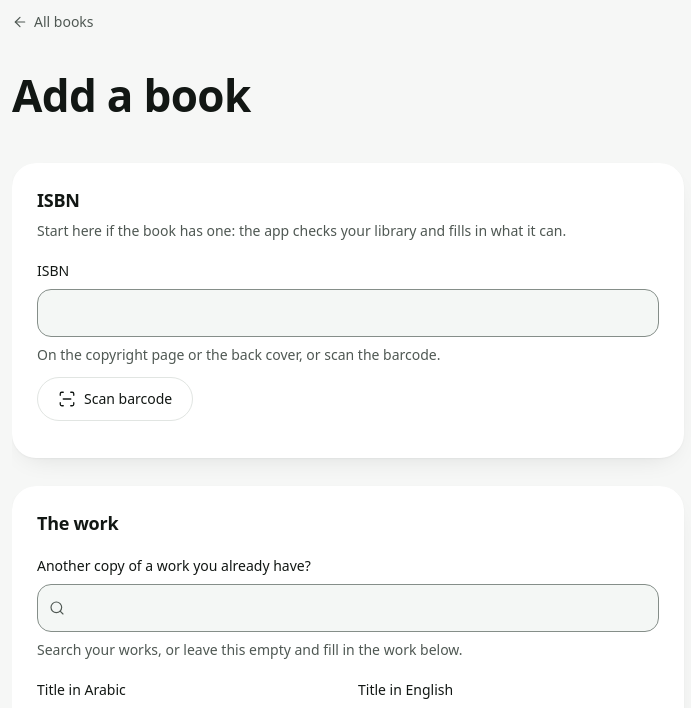
Scenario: BookFormPage › Filling in from the ISBN › takes its suggestions back out when the ISBN changes to one with none
Type "9789933685027" into the field labelled "ISBN" at [348, 313], box [37,289,659,337]
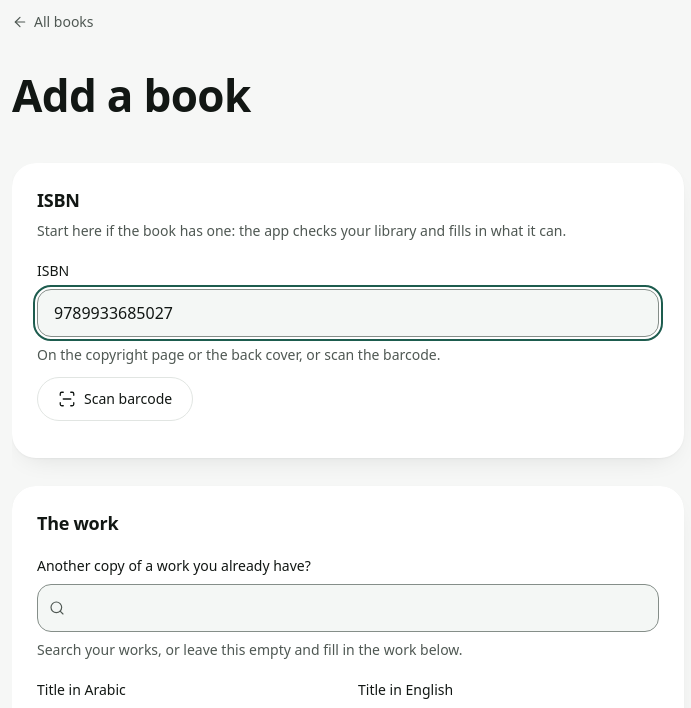
Type "1" into the field labelled "ISBN" at [348, 313], box [37,289,659,337]
(page scrolled)
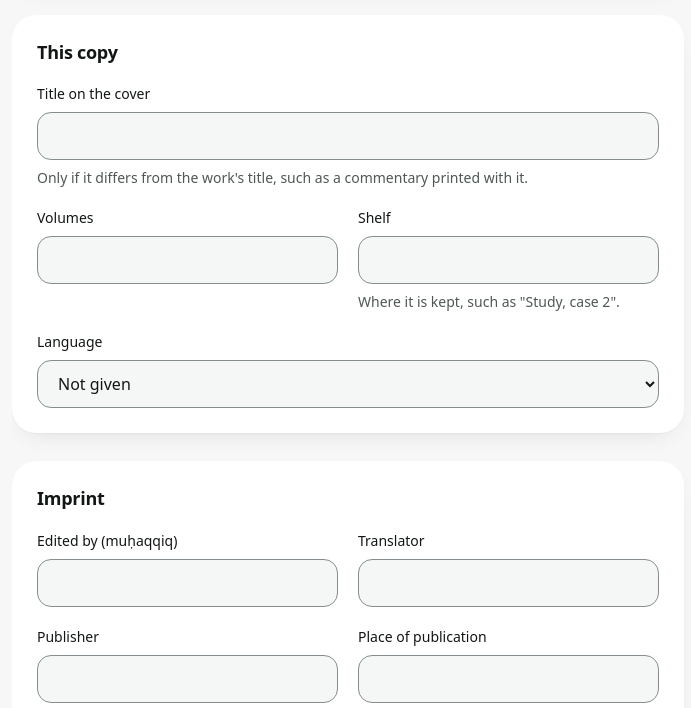
Expected: the field labelled "Publisher" is empty, [37,655,338,703]
Expected: the dropdown labelled "Language" shows "Not given", [37,360,659,408]
